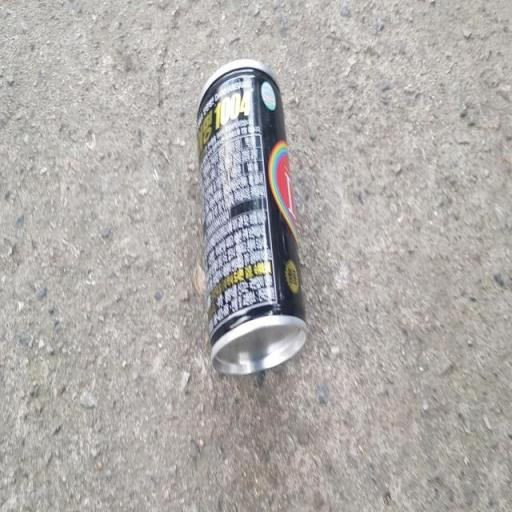metal: (181, 26, 318, 396)
